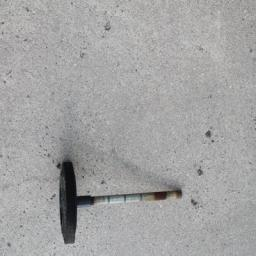FOD: (53, 160, 186, 247)
